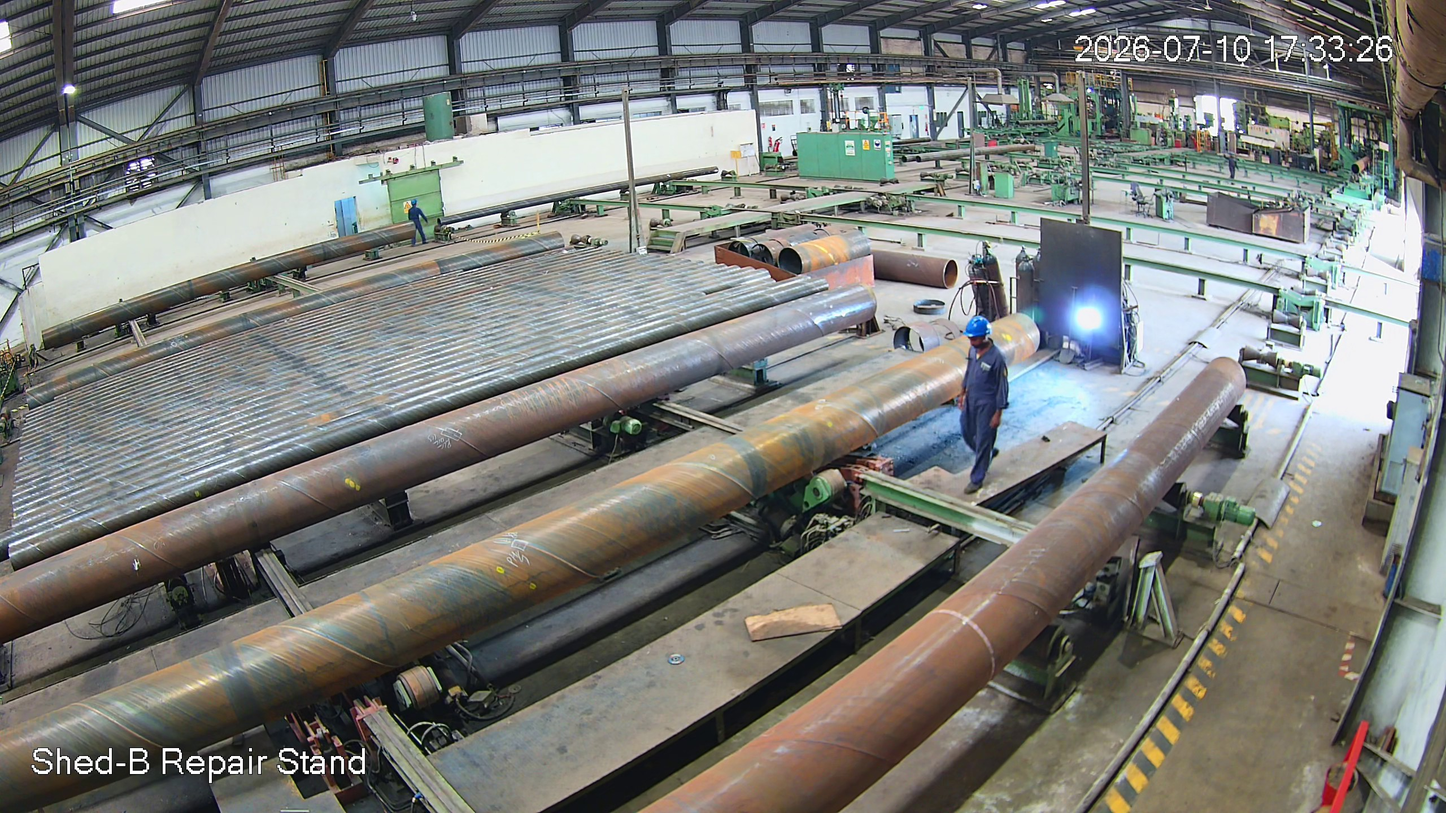Helmet: (964, 312, 997, 354)
Person: (958, 314, 1009, 497)
